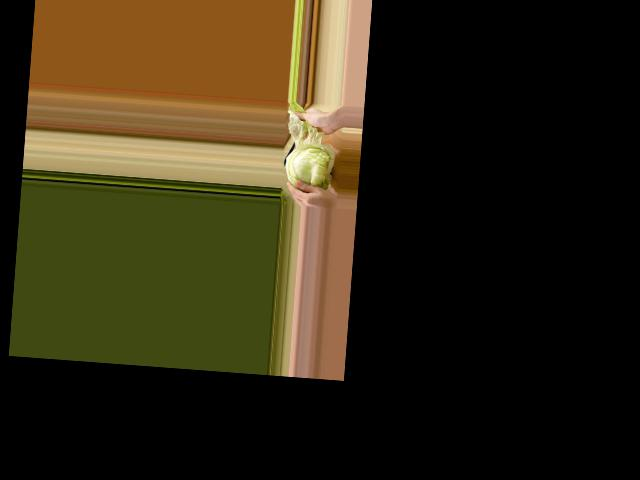lettuce: (281, 130, 339, 194)
